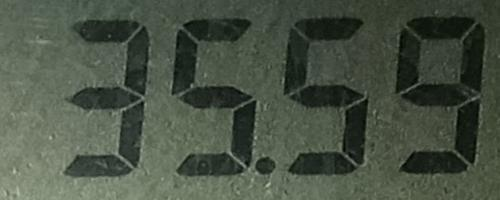.: (253, 154, 277, 176)
